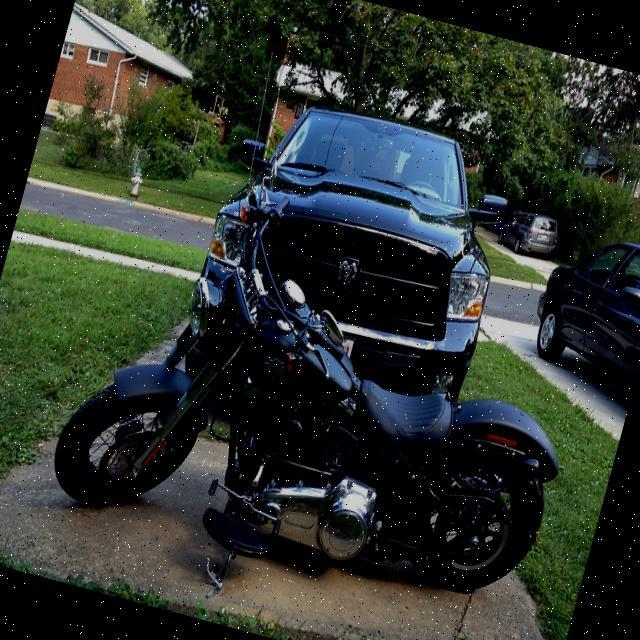fire_hydrant: (125, 164, 146, 196)
